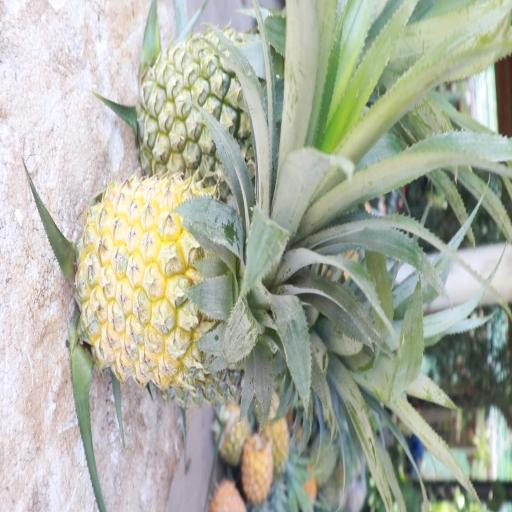------------------------------: (140, 19, 289, 183)
Pineapple - v8 v1: (80, 170, 296, 390), (238, 428, 273, 504)
